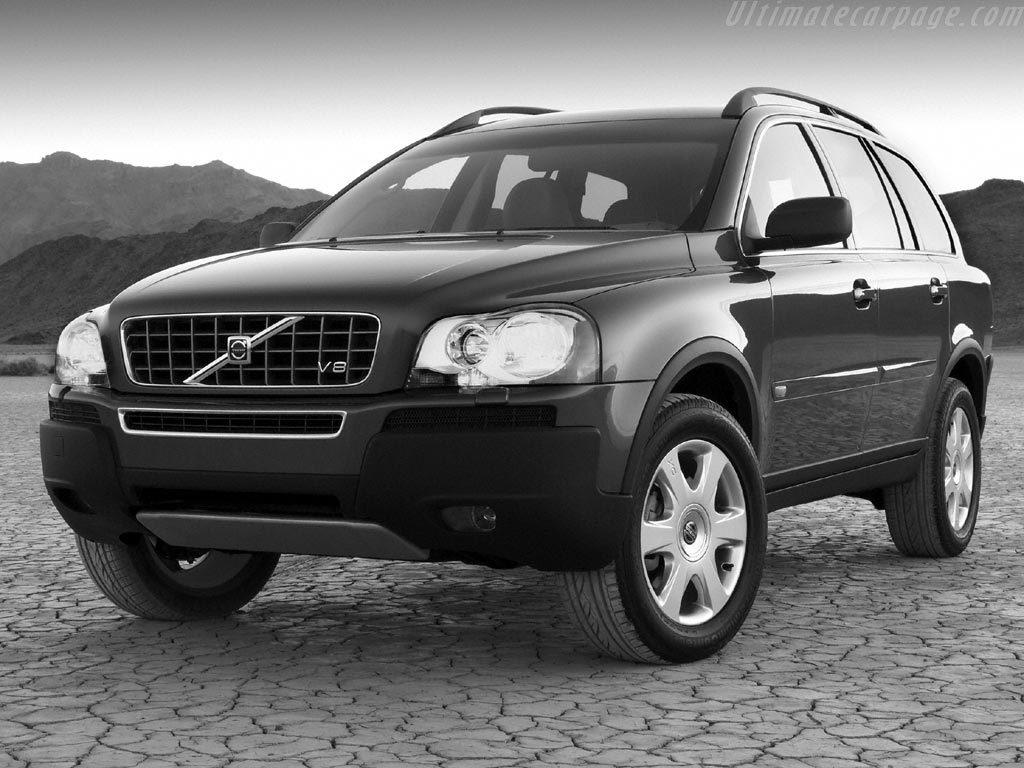car: (41, 87, 992, 661)
